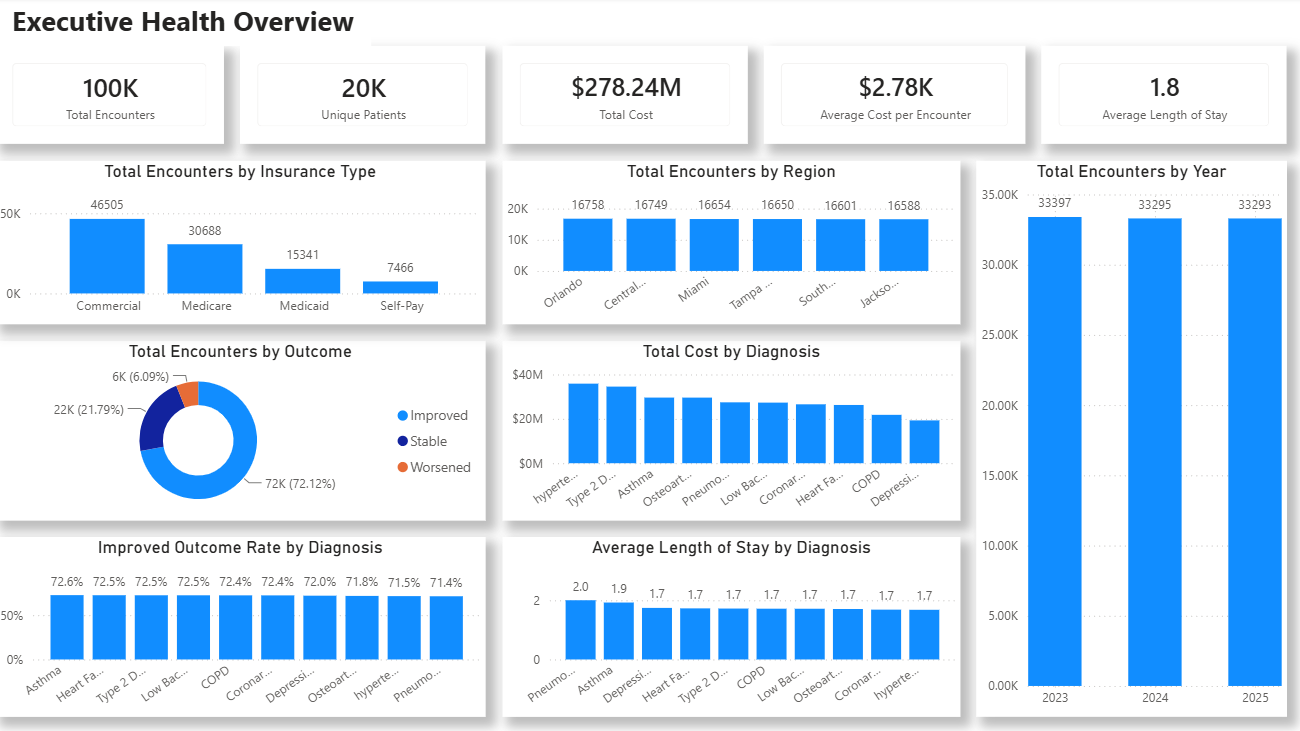

This screenshot's page, from the dashboard's own definition file:
{"tool":"powerbi","page":{"name":"Exececutive Healthcare Overview ","canvas":[1280,720],"ordinal":0},"visuals":[{"type":"cardVisual","fields":{"Data":["warehouse fact_encounters.Total Encounters"]},"box":[0,48,224,96],"z":0},{"type":"cardVisual","fields":{"Data":["warehouse fact_encounters.Unique Patients"]},"box":[240,48,240,96],"z":1000},{"type":"cardVisual","fields":{"Data":["warehouse fact_encounters.Total Cost"]},"box":[496,48,240,96],"z":2000},{"type":"cardVisual","fields":{"Data":["warehouse fact_encounters.Average Cost per Encounter"]},"box":[752,48,256,96],"z":3000},{"type":"cardVisual","fields":{"Data":["warehouse fact_encounters.Average Length of Stay"]},"box":[1024,48,240,96],"z":4000},{"type":"donutChart","title":"Total Encounters by Outcome","fields":{"Category":["warehouse fact_encounters.outcome"],"Y":["warehouse fact_encounters.Total Encounters"]},"box":[0,336,480,176],"z":5000},{"type":"clusteredColumnChart","title":"Total Cost by Diagnosis","fields":{"Category":["warehouse dim_diagnosis.diagnosis"],"Y":["warehouse fact_encounters.Total Cost"]},"box":[496,336,448,176],"z":6000},{"type":"clusteredColumnChart","title":"Total Encounters by Insurance Type","fields":{"Category":["warehouse fact_encounters.insurance_type"],"Y":["warehouse fact_encounters.Total Encounters"]},"box":[0,160,480,160],"z":7000},{"type":"clusteredColumnChart","title":"Total Encounters by Region","fields":{"Category":["warehouse dim_location.region"],"Y":["warehouse fact_encounters.Total Encounters"]},"box":[496,160,448,160],"z":8000},{"type":"clusteredColumnChart","title":"Improved Outcome Rate by Diagnosis","fields":{"Category":["warehouse dim_diagnosis.diagnosis"],"Y":["warehouse fact_encounters.Improved Outcome %"]},"box":[0,528,480,176],"z":9000},{"type":"clusteredColumnChart","title":"Average Length of Stay by Diagnosis","fields":{"Category":["warehouse dim_diagnosis.diagnosis"],"Y":["warehouse fact_encounters.Average Length of Stay"]},"box":[496,528,448,176],"z":10000},{"type":"clusteredColumnChart","title":"Total Encounters by Year","fields":{"Category":["warehouse dim_date.year"],"Y":["warehouse fact_encounters.Total Encounters"]},"box":[960,160,304,544],"z":11000},{"type":"textbox","box":[0,0,368,48],"z":12000}]}

Visuals, with their boxes in screenshot pixels (x1, y1, x2, y2), scaled from the page's 1280x720 canvas onto the 1300x731 screenshot:
cardVisual - warehouse fact_encounters.Total Encounters: l=0, t=49, r=228, b=146
cardVisual - warehouse fact_encounters.Unique Patients: l=244, t=49, r=488, b=146
cardVisual - warehouse fact_encounters.Total Cost: l=504, t=49, r=748, b=146
cardVisual - warehouse fact_encounters.Average Cost per Encounter: l=764, t=49, r=1024, b=146
cardVisual - warehouse fact_encounters.Average Length of Stay: l=1040, t=49, r=1284, b=146
"Total Encounters by Outcome" donutChart: l=0, t=341, r=488, b=520
"Total Cost by Diagnosis" clusteredColumnChart: l=504, t=341, r=959, b=520
"Total Encounters by Insurance Type" clusteredColumnChart: l=0, t=162, r=488, b=325
"Total Encounters by Region" clusteredColumnChart: l=504, t=162, r=959, b=325
"Improved Outcome Rate by Diagnosis" clusteredColumnChart: l=0, t=536, r=488, b=715
"Average Length of Stay by Diagnosis" clusteredColumnChart: l=504, t=536, r=959, b=715
"Total Encounters by Year" clusteredColumnChart: l=975, t=162, r=1284, b=715
textbox: l=0, t=0, r=374, b=49
